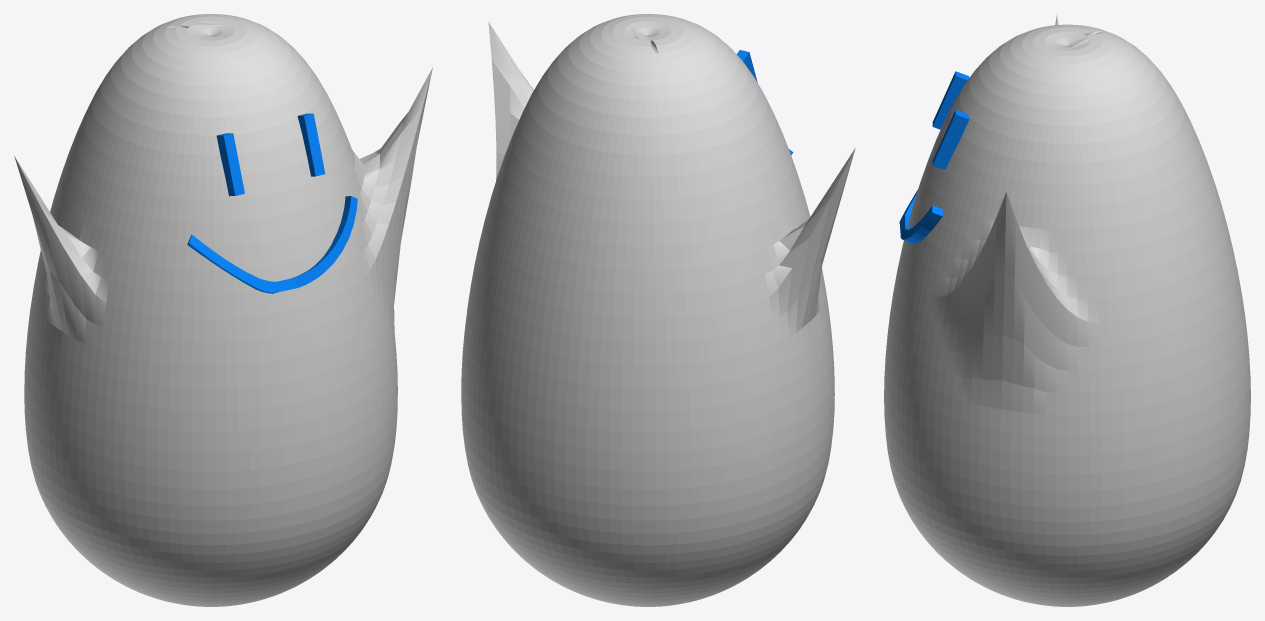
The model's file is neri.glb.
3 renders of one model, left to right at view 1: azimuth 30°, elevation 25°; view 2: azimuth 150°, elevation 25°; view 3: azimuth 270°, elevation 25°, orthographic.
Visible parts, largest first — view 1: Sphere, Cube.001, Cube_002, Cube_003; view 2: Sphere; view 3: Sphere, Cube_003, Cube.001, Cube_002.
Part boxes in pixels (x1=…): Sphere: x1=14, y1=14, x2=432, y2=606; Cube.001: x1=187, y1=196, x2=357, y2=293; Cube_002: x1=216, y1=133, x2=244, y2=196; Cube_003: x1=297, y1=113, x2=325, y2=176; Sphere: x1=461, y1=14, x2=855, y2=606; Sphere: x1=884, y1=15, x2=1250, y2=606; Cube_003: x1=932, y1=109, x2=969, y2=169; Cube.001: x1=899, y1=190, x2=942, y2=243; Cube_002: x1=932, y1=71, x2=969, y2=129.
Size of the model in its own units: 2.43 by 3.3 by 2.
